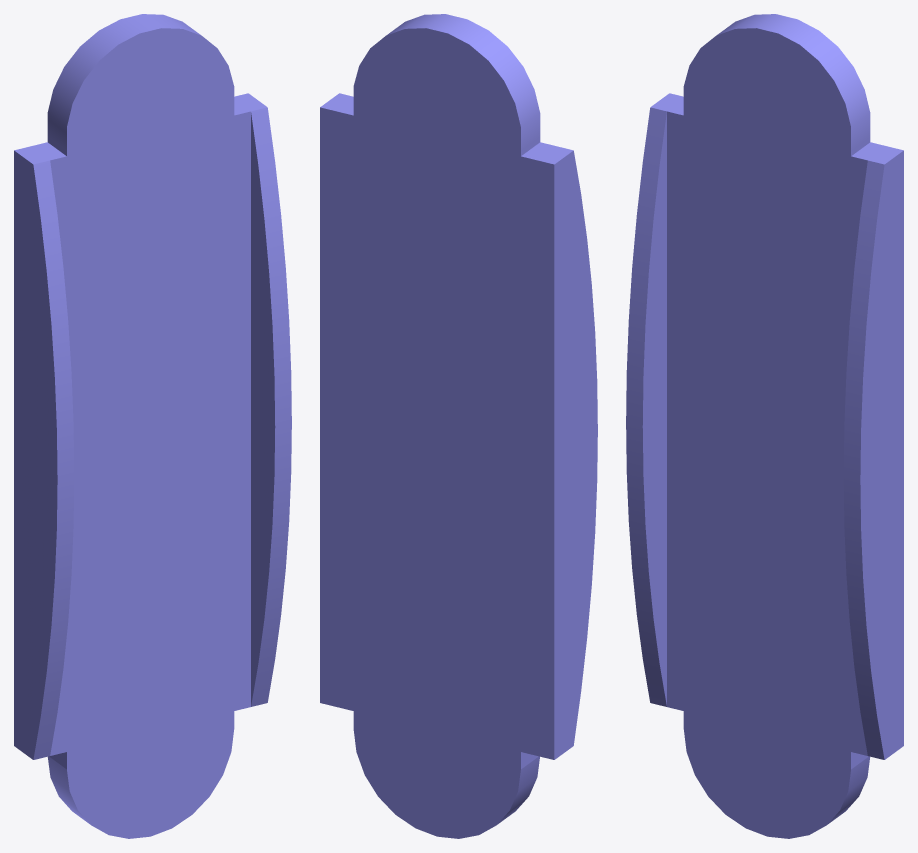
Rendered from original-10.obj.
3 renders of one model, left to right at view 1: azimuth 30°, elevation 25°; view 2: azimuth 150°, elevation 25°; view 3: azimuth 330°, elevation 25°, orthographic.
Visible parts, largest first — view 1: #ID76; view 2: #ID76; view 3: #ID76.
Boxes of the visible parts, bbox=[...] form: #ID76: bbox=[14, 14, 291, 838]; #ID76: bbox=[320, 14, 597, 838]; #ID76: bbox=[626, 14, 903, 838].
Bounding box in the file's own units: 0.5402 × 1.77 × 0.1736.
